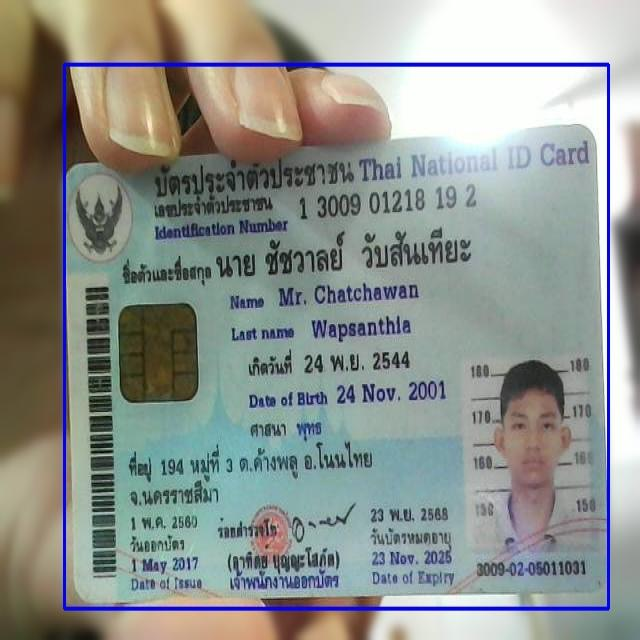Address_th: (125, 438, 383, 512)
Date_of_Birth: (335, 377, 448, 409)
Date_of_Expiry: (368, 546, 455, 572)
Date_of_Issue: (127, 554, 206, 575)
First_Name: (275, 278, 421, 309)
ID_Number: (295, 180, 479, 222)
Image: (463, 355, 599, 555)
Last_Name: (309, 312, 414, 347)
Thai_Name: (213, 226, 482, 278)
